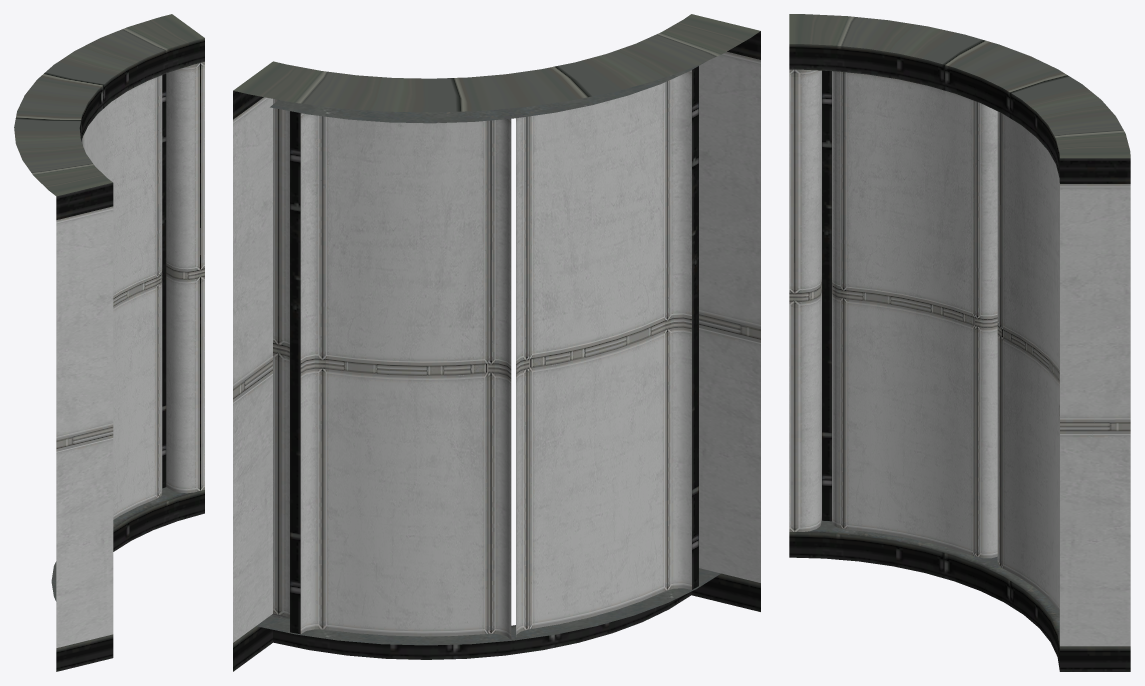
File: Neon_Wall_6x4_Bend_S.FBX
The picture shows the model from 3 angles, left to right: view 1: azimuth 30°, elevation 25°; view 2: azimuth 150°, elevation 25°; view 3: azimuth 270°, elevation 25°; orthographic projection. The views are drawn at different scales.
Parts seen in each view (by area): view 1: Neon_Wall_6x4_Bend_S; view 2: Neon_Wall_6x4_Bend_S; view 3: Neon_Wall_6x4_Bend_S.
Part boxes in pixels (bbox=[...]): Neon_Wall_6x4_Bend_S: bbox=[14, 14, 204, 671]; Neon_Wall_6x4_Bend_S: bbox=[233, 14, 760, 671]; Neon_Wall_6x4_Bend_S: bbox=[789, 14, 1130, 671].
Bounding box in the file's own units: 2.41 × 4 × 2.41.
